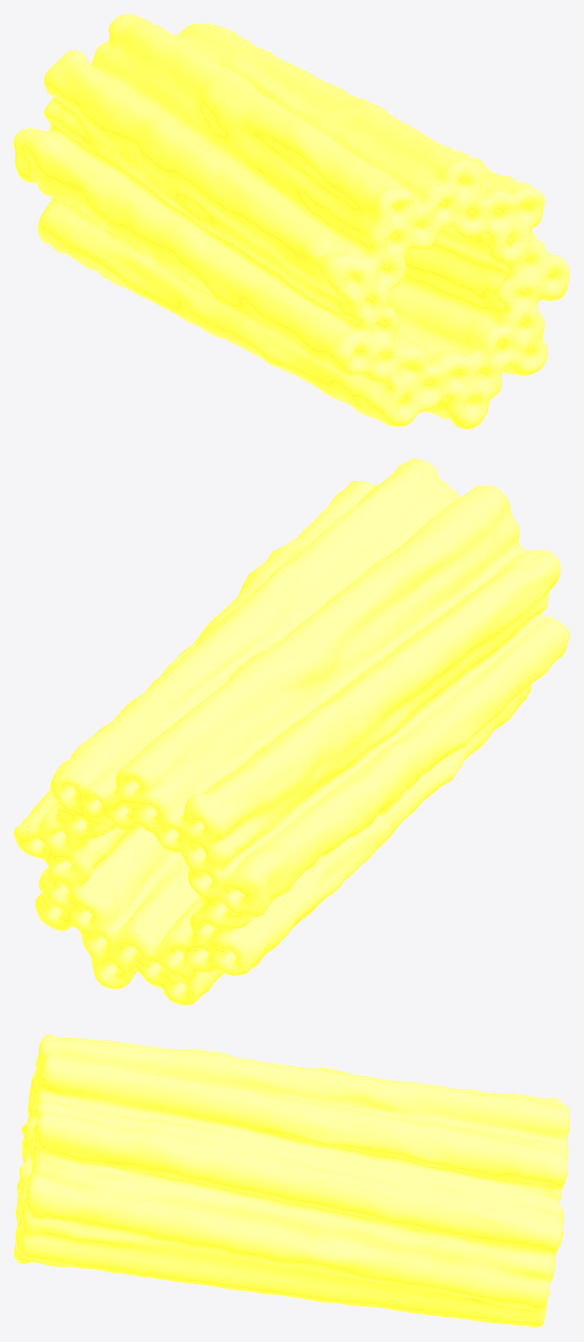
Rendered from centriole01.fbx.
3 views of the same model, one above another, from view 1: azimuth 30°, elevation 25°; view 2: azimuth 150°, elevation 25°; view 3: azimuth 270°, elevation 25° (orthographic). The views are drawn at different scales.
Parts seen in each view (by area): view 1: Centrioles_01; view 2: Centrioles_01; view 3: Centrioles_01.
Boxes of the visible parts, x1,y1,x2,y2 form: Centrioles_01: (14,14,569,429); Centrioles_01: (14,458,569,1005); Centrioles_01: (14,1034,569,1327).
Bounding box in the file's own units: 145 × 177 × 337.
